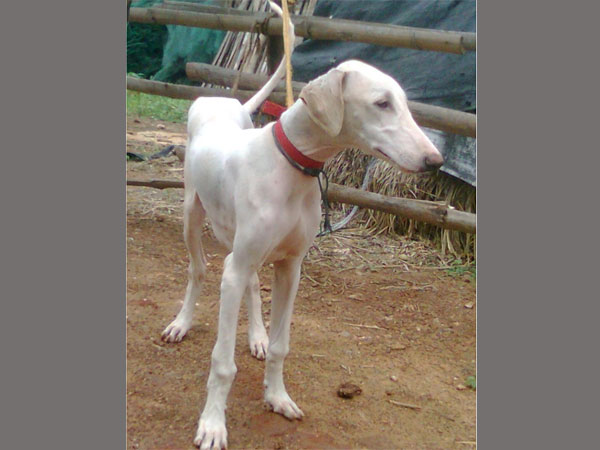dog: (162, 1, 446, 450)
